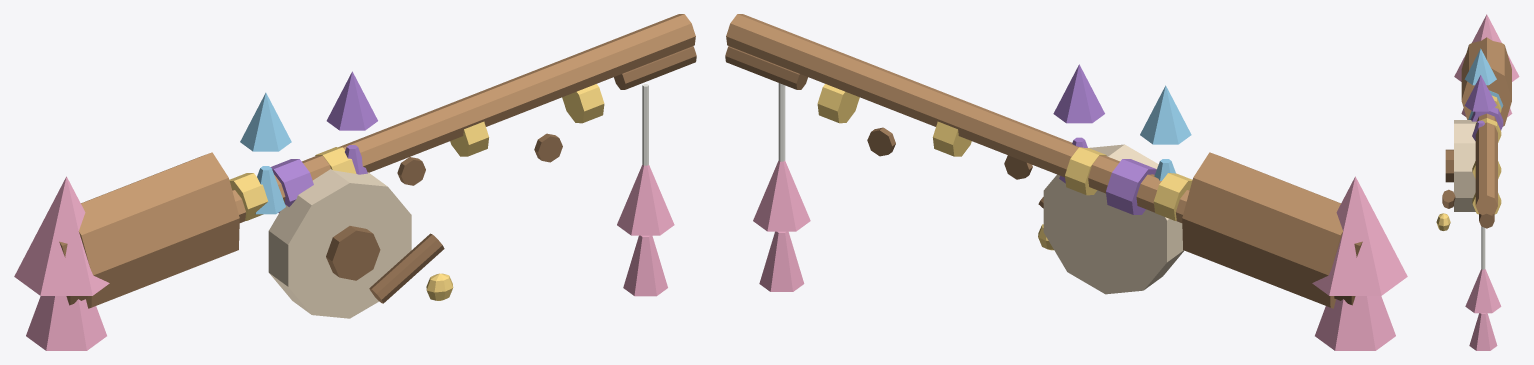
3 renders of one model, left to right at view 1: azimuth 30°, elevation 25°; view 2: azimuth 150°, elevation 25°; view 3: azimuth 270°, elevation 25°, orthographic. The views are drawn at different scales.
Visible parts, largest first — view 1: rounded handle grip, round cream reel body, main tapered wooden rod, large pink crystal pommel top, large pink crystal pommel bottom, pink crystal lure top, dark reel hole, pink crystal lure bottom, short reel arm, big clear crystal accent-0.2 top, big clear crystal accent-0.56 top, dark rod tip (+10 smaller); view 2: rounded handle grip, main tapered wooden rod, round cream reel body, large pink crystal pommel top, large pink crystal pommel bottom, pink crystal lure top, pink crystal lure bottom, purple grip band, big clear crystal accent-0.2 top, big clear crystal accent-0.56 top, dark rod tip, chunky gold binding (+5 smaller); view 3: rounded handle grip, main tapered wooden rod, round cream reel body, pink crystal lure top, pink crystal lure bottom, big clear crystal accent-0.2 top, big clear crystal accent-0.56 top, large pink crystal pommel top, dark reel hole, purple grip band, short reel arm, straight pale fishing line (+6 smaller).
Part boxes in pixels (bbox=[...]): rounded handle grip: bbox=[78, 152, 239, 308]; round cream reel body: bbox=[268, 169, 411, 318]; main tapered wooden rod: bbox=[232, 14, 695, 222]; large pink crystal pommel top: bbox=[14, 176, 109, 295]; large pink crystal pommel bottom: bbox=[26, 296, 106, 350]; pink crystal lure top: bbox=[617, 165, 674, 235]; dark reel hole: bbox=[326, 226, 380, 280]; pink crystal lure bottom: bbox=[623, 235, 667, 296]; short reel arm: bbox=[369, 233, 444, 303]; big clear crystal accent-0.2 top: bbox=[326, 71, 377, 130]; big clear crystal accent-0.56 top: bbox=[240, 92, 291, 151]; dark rod tip: bbox=[614, 46, 696, 89]; rounded handle grip: bbox=[1182, 152, 1343, 308]; main tapered wooden rod: bbox=[726, 14, 1189, 222]; round cream reel body: bbox=[1043, 144, 1184, 294]; large pink crystal pommel top: bbox=[1312, 176, 1407, 295]; large pink crystal pommel bottom: bbox=[1315, 296, 1395, 350]; pink crystal lure top: bbox=[753, 160, 810, 231]; pink crystal lure bottom: bbox=[759, 231, 804, 291]; purple grip band: bbox=[1106, 159, 1156, 214]; big clear crystal accent-0.2 top: bbox=[1053, 64, 1104, 123]; big clear crystal accent-0.56 top: bbox=[1140, 85, 1191, 144]; dark rod tip: bbox=[725, 46, 807, 89]; chunky gold binding: bbox=[817, 84, 859, 123]; rounded handle grip: bbox=[1461, 37, 1511, 126]; main tapered wooden rod: bbox=[1475, 113, 1497, 214]; round cream reel body: bbox=[1454, 120, 1476, 211]; pink crystal lure top: bbox=[1465, 269, 1501, 313]; pink crystal lure bottom: bbox=[1469, 313, 1497, 350]; big clear crystal accent-0.2 top: bbox=[1464, 75, 1496, 111]; big clear crystal accent-0.56 top: bbox=[1464, 48, 1496, 85]; large pink crystal pommel top: bbox=[1454, 14, 1519, 81]; dark reel hole: bbox=[1445, 149, 1453, 182]; purple grip band: bbox=[1470, 107, 1503, 130]; short reel arm: bbox=[1442, 189, 1455, 208]; straight pale fishing line: bbox=[1481, 226, 1485, 269].
Bounding box in the file's own units: 2.77 × 1.16 × 0.4802.
